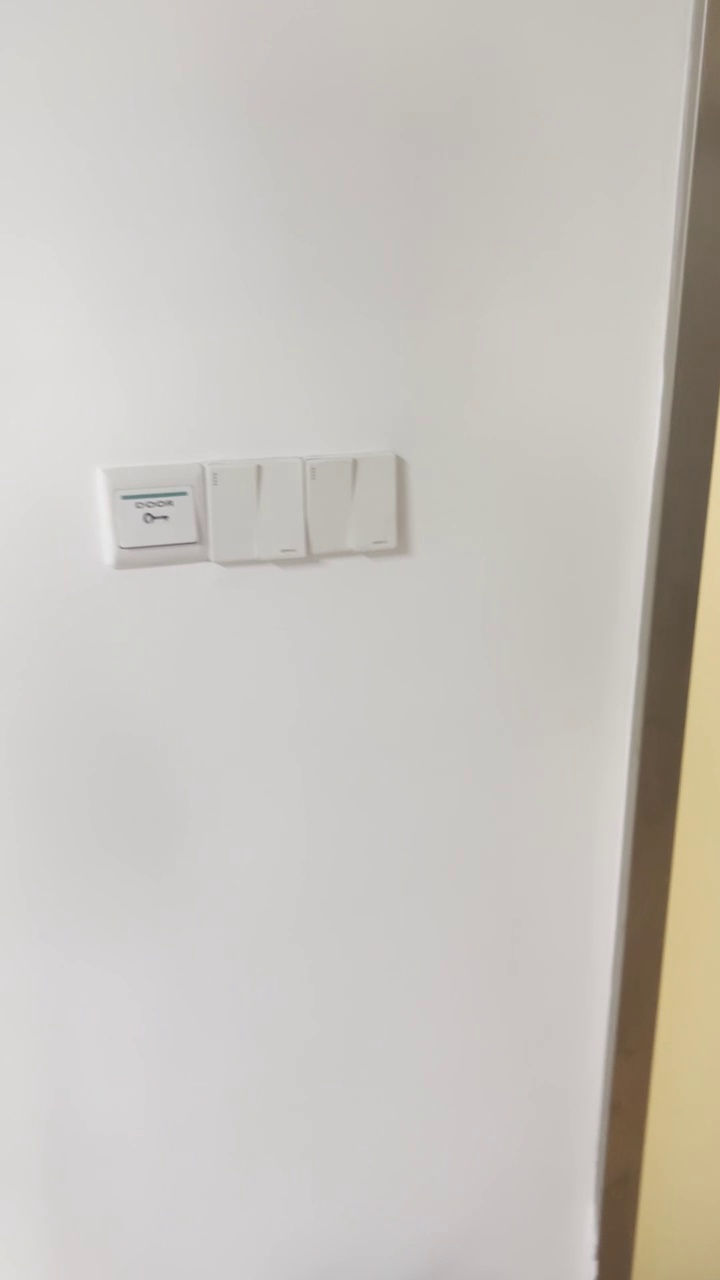button: (207, 455, 308, 567), (305, 448, 400, 557)
